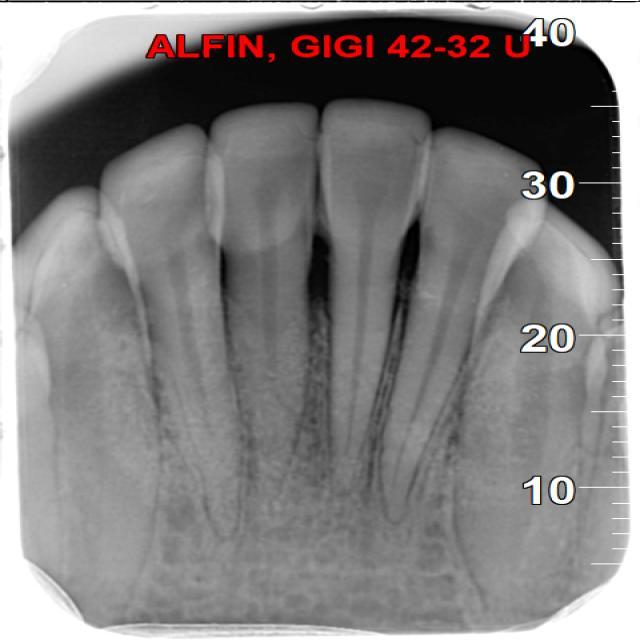individual-tooth-8tto: (385, 125, 547, 521), (87, 133, 228, 524), (205, 106, 321, 486), (318, 102, 427, 483)
